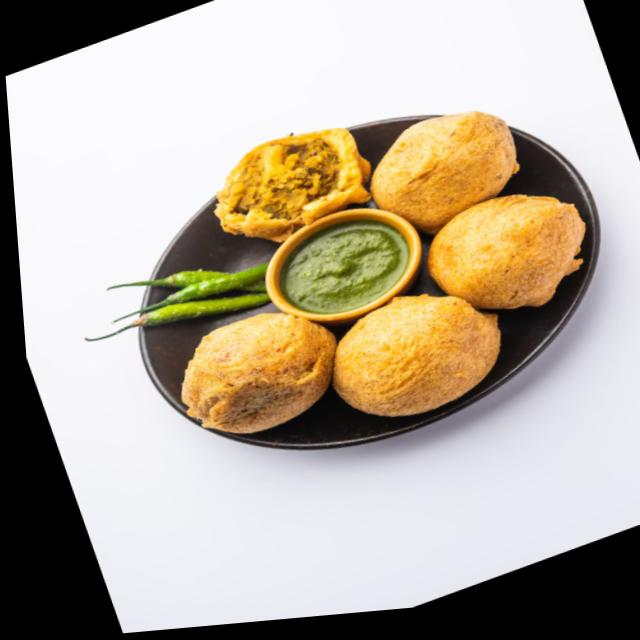BONDA: (173, 112, 589, 436)
GREEN CHUTNEY: (265, 203, 414, 326)
